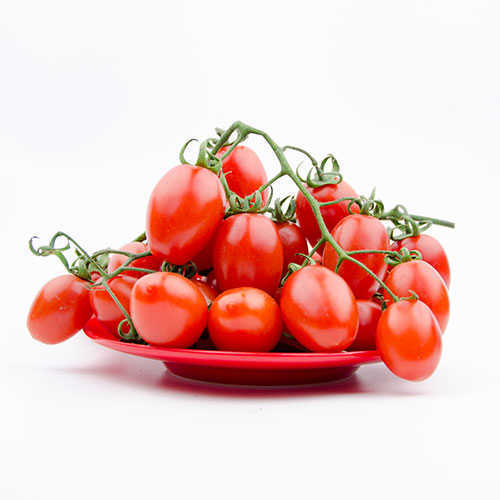Tomato: (277, 261, 361, 355), (144, 162, 217, 258), (128, 273, 205, 353), (378, 300, 441, 386), (25, 273, 91, 352)
